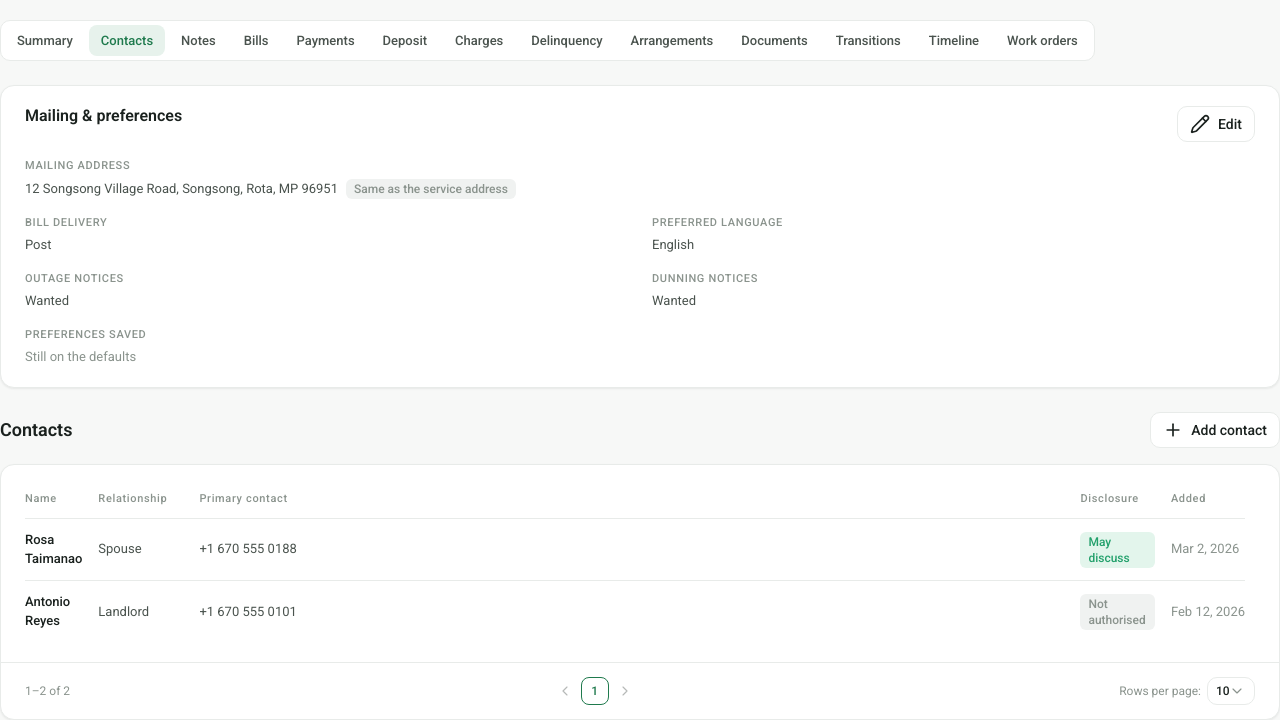
Scenario: the contacts tab › opens a contact in a drawer with every method grouped by kind
(page scrolled)
Step 1. Click the button "Antonio Reyes" → (54, 612), box [25,593,82,630]
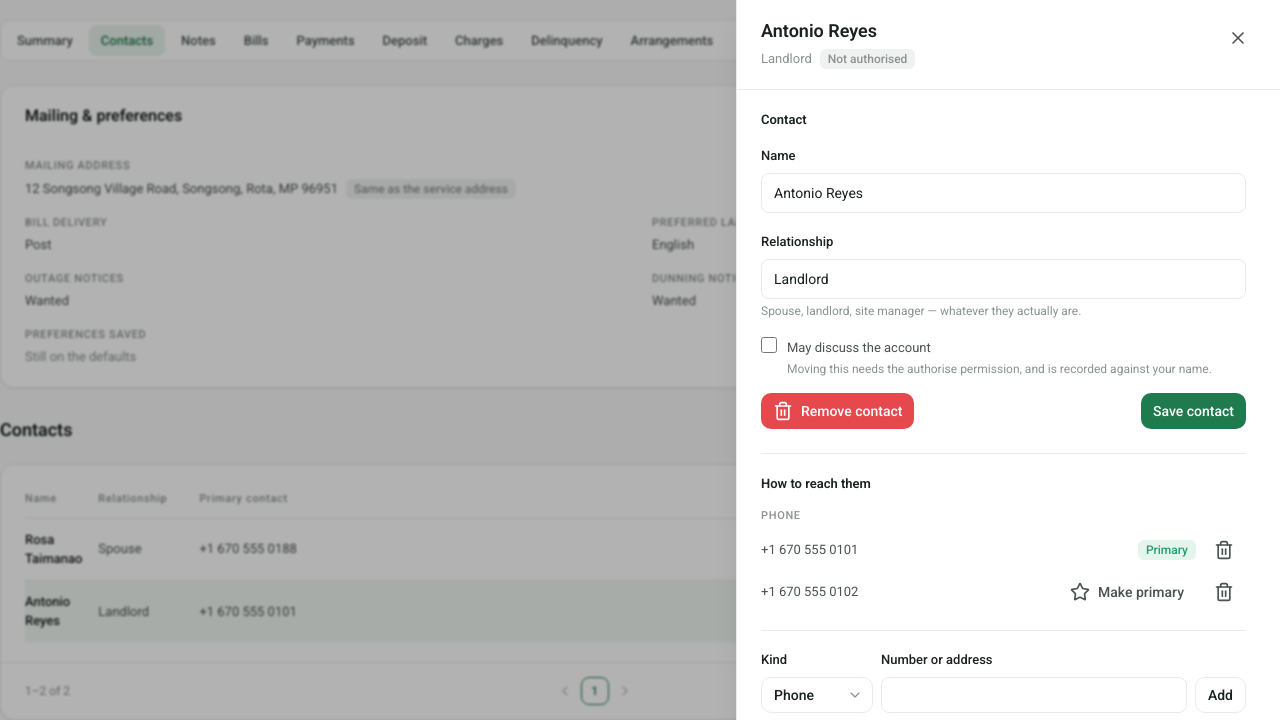
Now the text "+1 670 555 0101" is shown, box [761,540,858,560]
Now the text "+1 670 555 0102" is shown, box [761,582,858,602]
Now the text "Primary" is shown, box [1138,540,1196,560]
